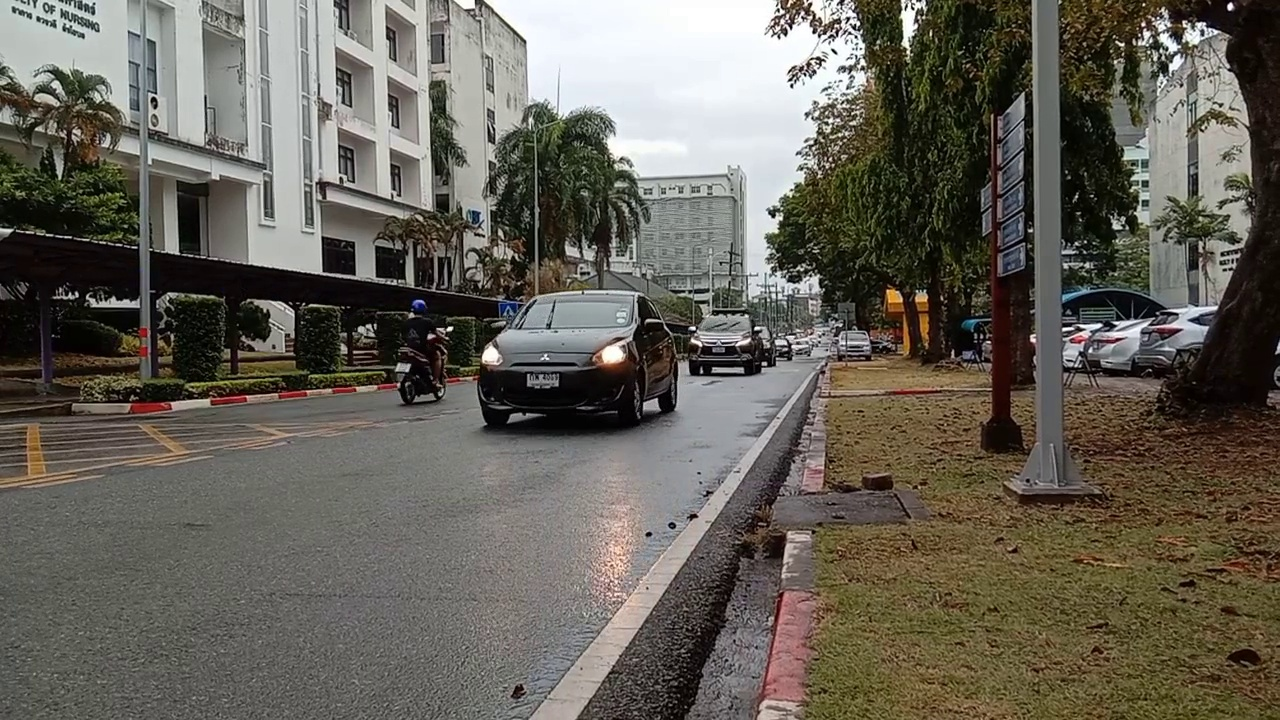License Plate: (525, 369, 561, 389)
